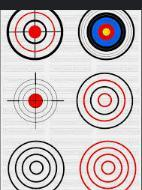target_red: (77, 136, 140, 190)
